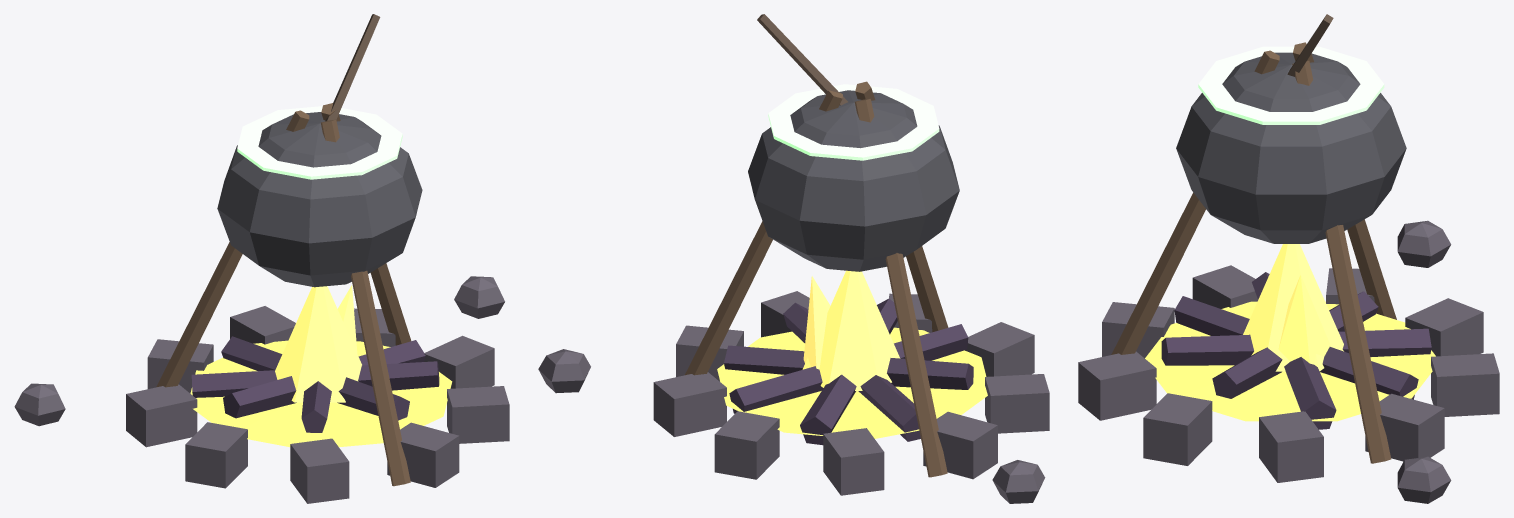
Rendered from cauldron_fire.glb.
3 renders of one model, left to right at view 1: azimuth 30°, elevation 25°; view 2: azimuth 150°, elevation 25°; view 3: azimuth 270°, elevation 25°, orthographic. The views are drawn at different scales.
Visible parts, largest first — view 1: cauldron_fire; view 2: cauldron_fire; view 3: cauldron_fire.
Part boxes in pixels (x1,y1,x2,y2): cauldron_fire: (14, 14, 509, 503); cauldron_fire: (538, 14, 1049, 503); cauldron_fire: (1078, 14, 1499, 503).
Size of the model in its own units: 3.3 by 2.49 by 2.27.
